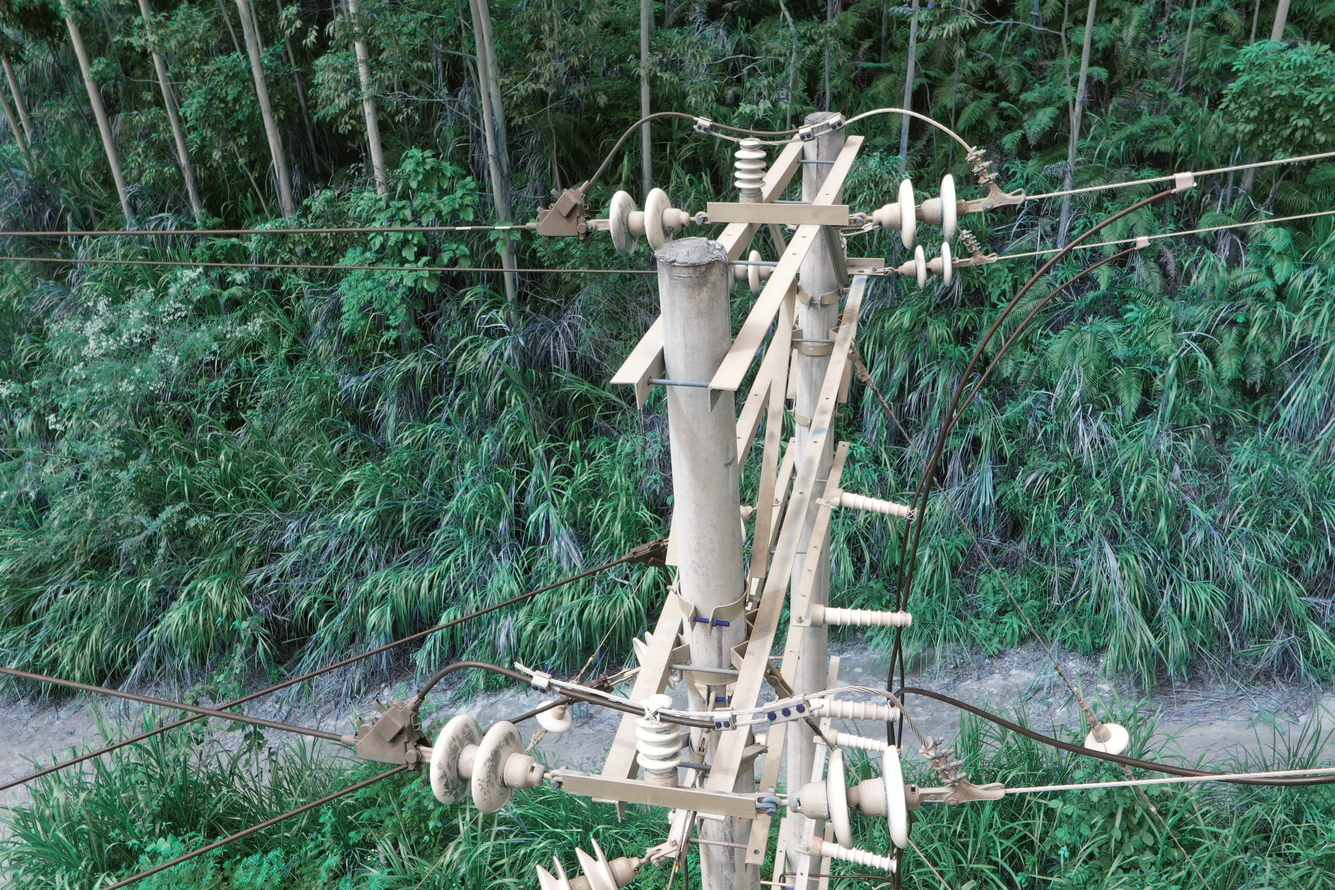severe_soiling_no_discharge_whole: (427, 715, 548, 816), (870, 173, 961, 251), (607, 183, 697, 257), (630, 692, 685, 785), (895, 239, 959, 292)
